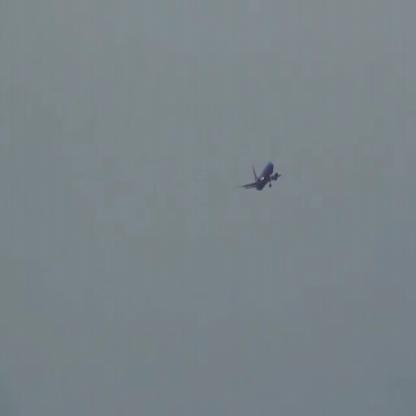CIV_Plane: (238, 162, 282, 191)
